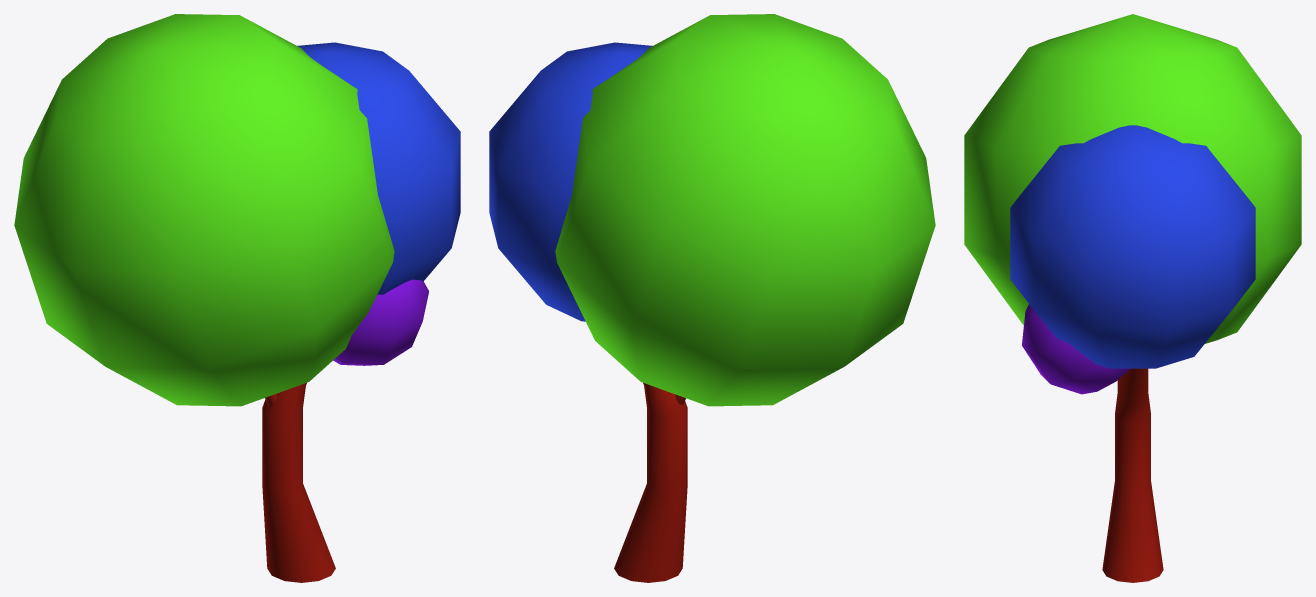
Rendered from Tree 1.fbx.
The picture shows the model from 3 angles, left to right: view 1: azimuth 30°, elevation 25°; view 2: azimuth 150°, elevation 25°; view 3: azimuth 270°, elevation 25°; orthographic projection. The views are drawn at different scales.
Visible parts, largest first — view 1: Tree 1; view 2: Tree 1; view 3: Tree 1.
Part boxes in pixels (<box>): Tree 1: <box>14,14,460,582</box>; Tree 1: <box>489,14,935,582</box>; Tree 1: <box>964,14,1301,582</box>.
Bounding box in the file's own units: 53.97 × 72.05 × 44.73.
